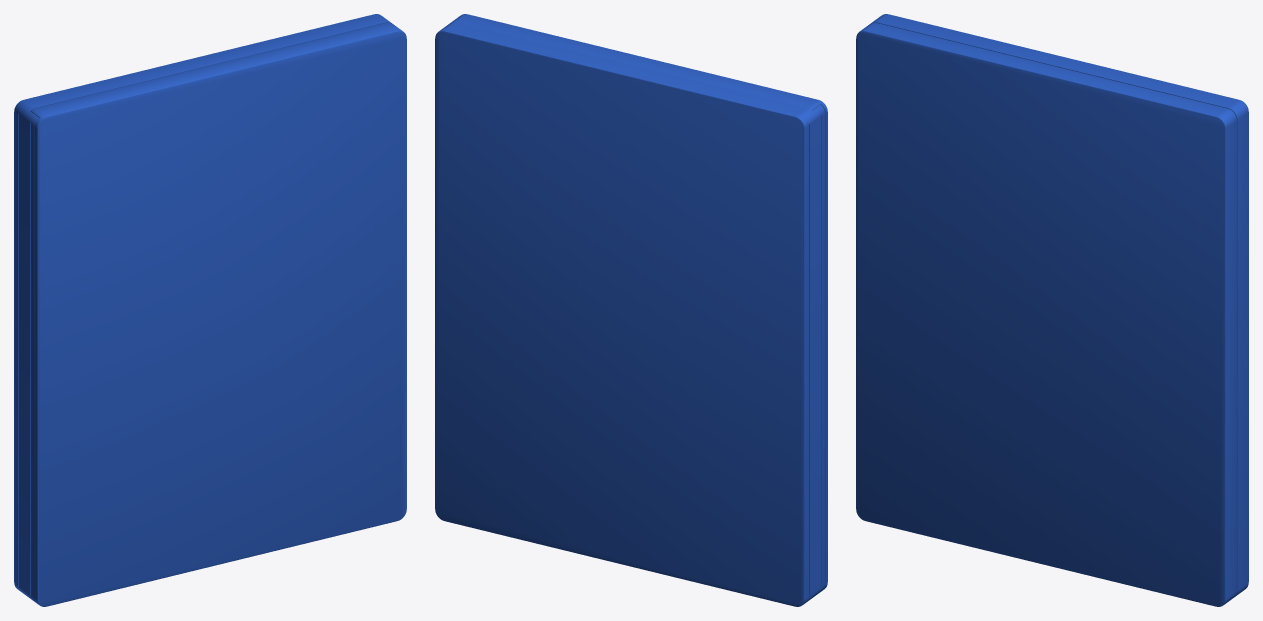
Rendered from case.glb.
The picture shows the model from 3 angles, left to right: view 1: azimuth 30°, elevation 25°; view 2: azimuth 150°, elevation 25°; view 3: azimuth 330°, elevation 25°; orthographic projection.
Parts seen in each view (by area): view 1: Lid, Base; view 2: Base, Lid; view 3: Lid, Base.
Part boxes in pixels (x1,y1,x2,y2): Lid: (30,22,406,606); Base: (14,14,391,602); Base: (435,22,825,606); Lid: (451,14,827,589); Lid: (856,22,1236,606); Base: (862,14,1248,596).
Bounding box in the file's own units: 1.35 × 1.71 × 0.15.
